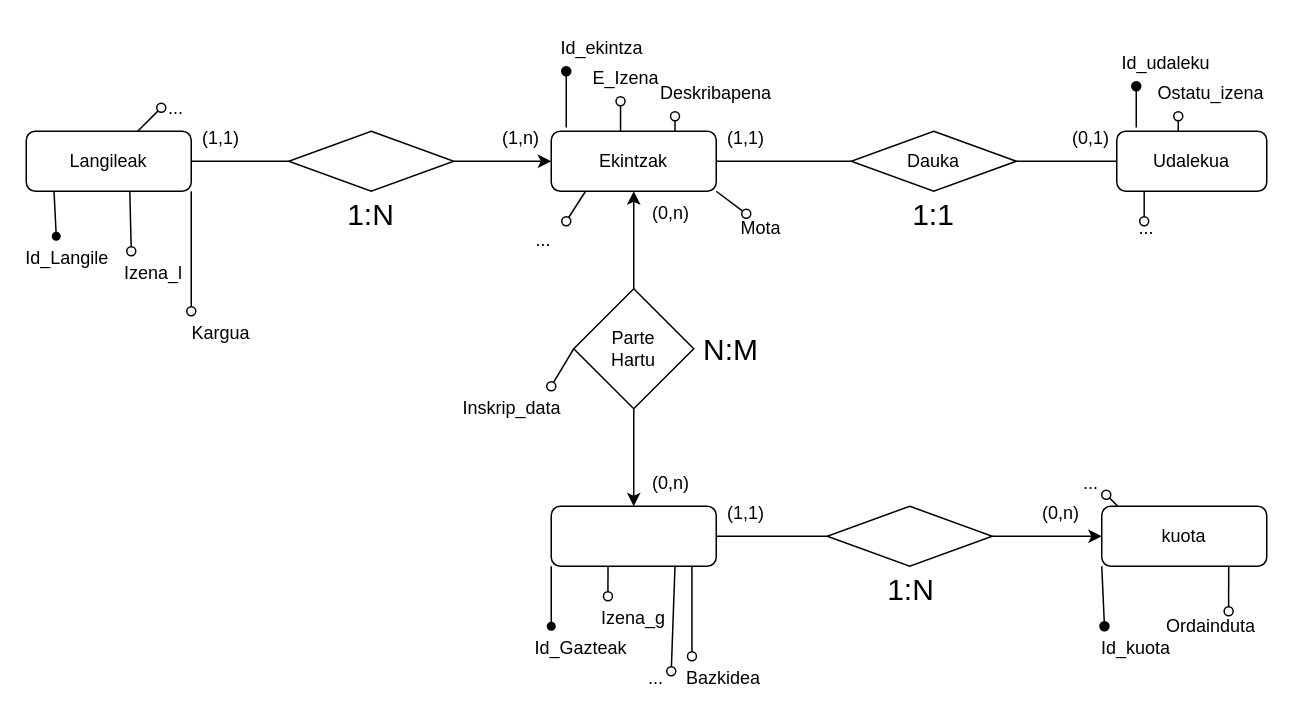
This 1293x726 diagram has some shape labels left out. The shapes that lost their labels are listed below. From the top down, each one's centre as x and y in pixels, then its label:
At (x=370, y=160): "Kudeatu".
At (x=633, y=535): "Gazteak".
At (x=909, y=535): "Ordaindu".
